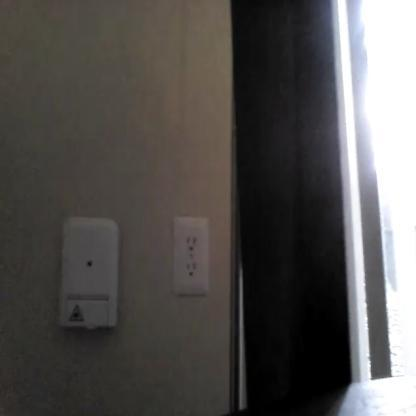OUTLET: (173, 216, 209, 297)
